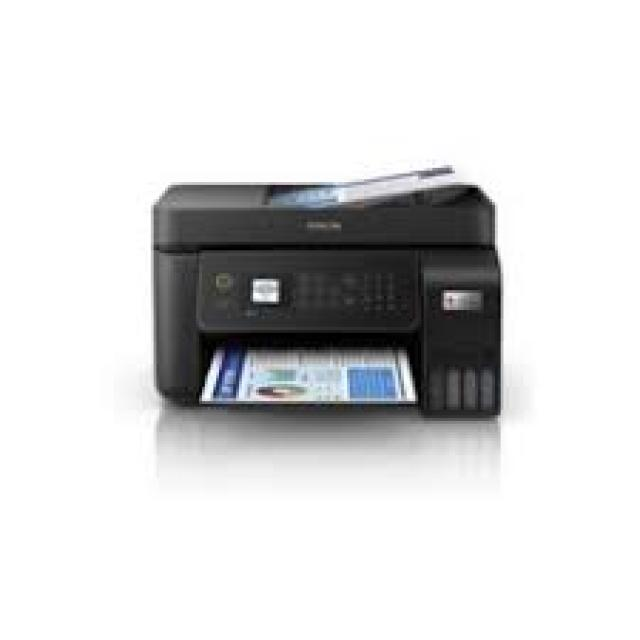printer: (148, 162, 503, 418)
